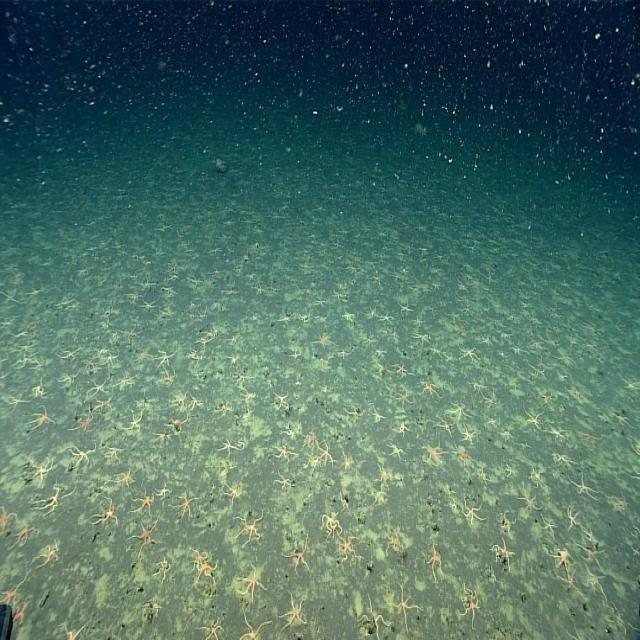brittle-stars: (393, 585, 416, 631), (279, 592, 307, 627), (286, 535, 310, 573), (238, 564, 262, 600), (239, 611, 268, 640), (365, 599, 386, 638), (135, 519, 157, 553), (240, 509, 262, 543), (460, 585, 479, 623), (571, 474, 597, 501), (96, 496, 118, 527), (71, 441, 96, 467), (39, 486, 62, 514), (492, 538, 512, 570), (518, 485, 540, 514), (426, 545, 444, 580), (558, 567, 579, 596), (577, 543, 603, 566), (31, 403, 53, 430), (338, 534, 358, 563), (545, 422, 570, 445), (3, 578, 23, 606), (384, 525, 402, 556), (13, 522, 34, 548), (177, 493, 198, 518), (197, 558, 218, 583), (462, 497, 482, 523), (115, 368, 135, 392), (32, 458, 51, 483), (424, 439, 442, 465), (202, 617, 222, 640), (554, 544, 573, 568), (585, 568, 603, 593), (273, 442, 293, 464), (322, 511, 341, 534), (42, 539, 60, 563), (529, 463, 546, 488), (498, 509, 515, 534), (450, 398, 468, 421), (136, 490, 153, 514), (222, 482, 241, 503), (420, 379, 439, 400), (458, 422, 476, 444), (77, 409, 93, 433), (95, 394, 113, 415), (219, 436, 237, 457), (453, 445, 471, 466), (609, 492, 627, 513), (524, 408, 542, 429), (155, 478, 171, 501), (60, 344, 79, 363), (272, 390, 290, 410), (396, 387, 411, 411), (459, 343, 477, 363), (578, 428, 596, 448), (171, 391, 188, 412), (276, 470, 292, 492), (320, 439, 333, 466), (566, 505, 580, 530), (168, 415, 188, 432), (376, 462, 390, 486), (302, 428, 317, 450), (481, 388, 496, 410), (541, 516, 557, 536), (119, 467, 134, 488), (160, 367, 175, 388), (128, 411, 142, 433), (101, 350, 118, 368), (437, 418, 454, 436), (388, 442, 404, 461), (0, 507, 12, 532), (412, 329, 429, 346), (59, 370, 75, 388), (240, 386, 256, 404), (284, 420, 297, 442), (90, 379, 106, 396), (156, 349, 172, 366), (188, 393, 204, 410), (316, 332, 332, 349), (123, 325, 138, 343), (106, 446, 122, 462), (34, 377, 46, 398), (217, 399, 231, 417), (191, 548, 204, 567), (188, 349, 203, 365), (397, 299, 412, 315), (396, 419, 410, 436), (340, 307, 354, 324), (371, 406, 384, 424), (308, 455, 321, 473), (142, 296, 156, 312), (396, 362, 410, 378), (342, 449, 352, 471), (82, 357, 96, 372), (136, 348, 150, 363), (530, 338, 545, 352), (377, 360, 391, 375), (505, 462, 515, 482), (512, 343, 526, 357), (447, 309, 461, 323), (190, 274, 203, 289), (366, 304, 378, 320), (583, 527, 595, 543), (381, 310, 394, 324), (314, 295, 327, 309), (158, 222, 173, 234), (279, 311, 290, 327), (253, 280, 264, 296), (75, 265, 88, 278), (141, 277, 153, 291), (365, 330, 375, 346), (429, 345, 442, 357), (333, 288, 344, 302), (457, 324, 466, 339), (412, 315, 423, 327), (210, 246, 222, 256)
